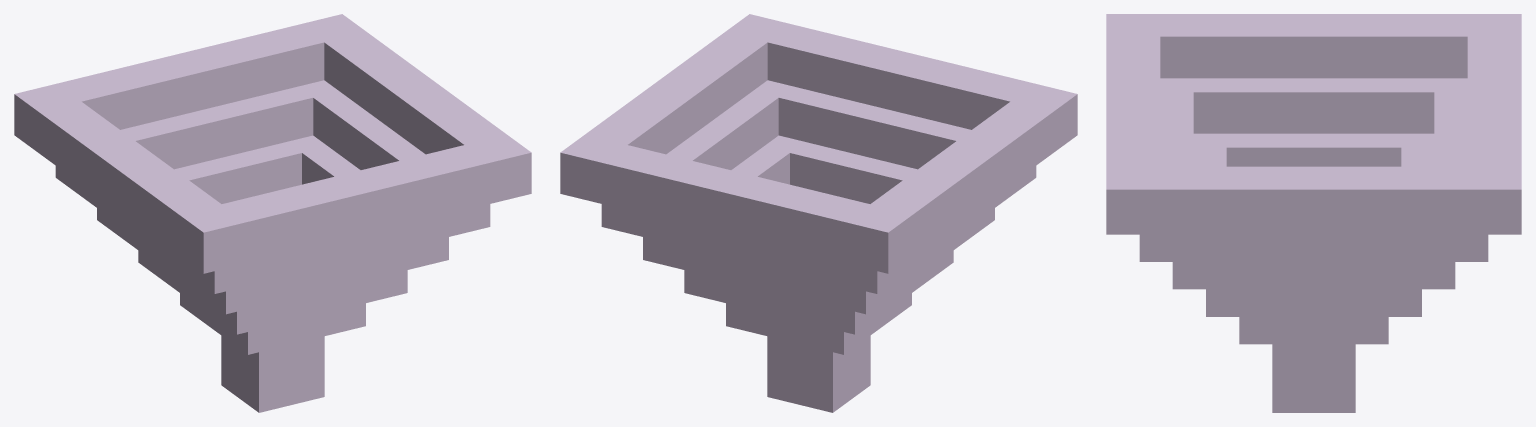
The model's file is bismuth.glb.
3 renders of one model, left to right at view 1: azimuth 30°, elevation 25°; view 2: azimuth 150°, elevation 25°; view 3: azimuth 270°, elevation 25°, orthographic. The views are drawn at different scales.
Parts seen in each view (by area): view 1: bismuth; view 2: bismuth; view 3: bismuth.
Part boxes in pixels (x1,y1,x2,y2): bismuth: (14, 14, 531, 412); bismuth: (560, 14, 1077, 412); bismuth: (1106, 14, 1521, 412).
Size of the model in its own units: 0.25 by 0.195 by 0.25.
